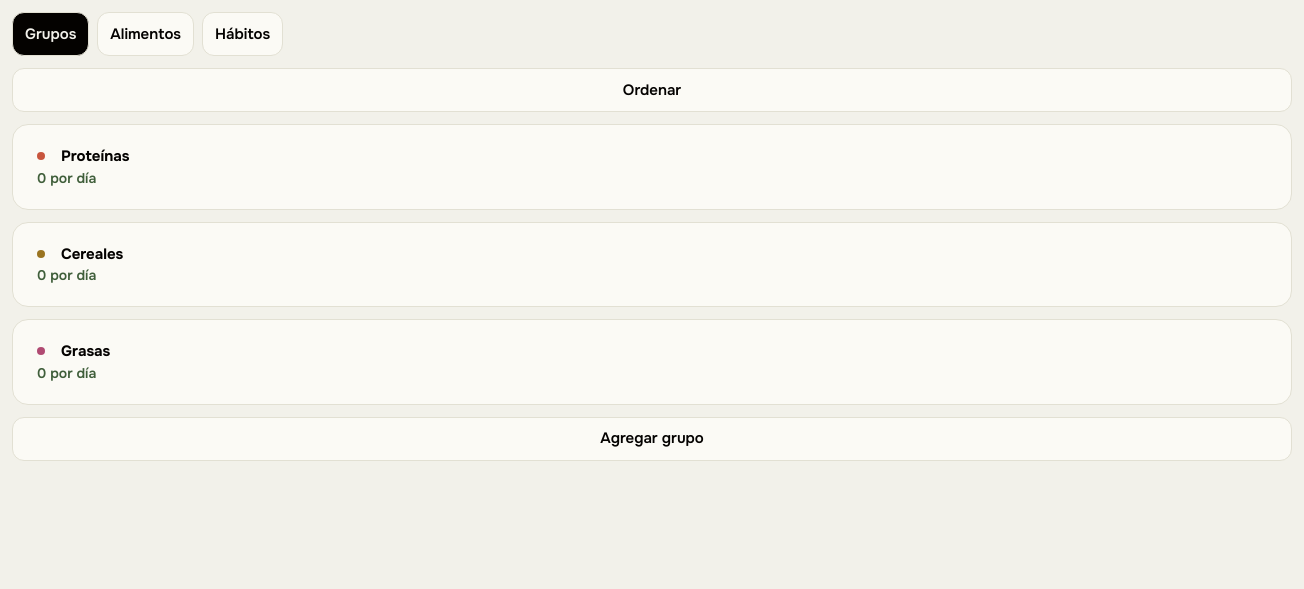
it: una sola búsqueda muestra el plan y el catálogo y exige dos caracteres
The width and height of the screenshot is (1304, 589).
Expected: the text "Proteínas" is shown, [37,146,130,166]
Click the button "Alimentos": point(146, 34) [97,12,194,56]
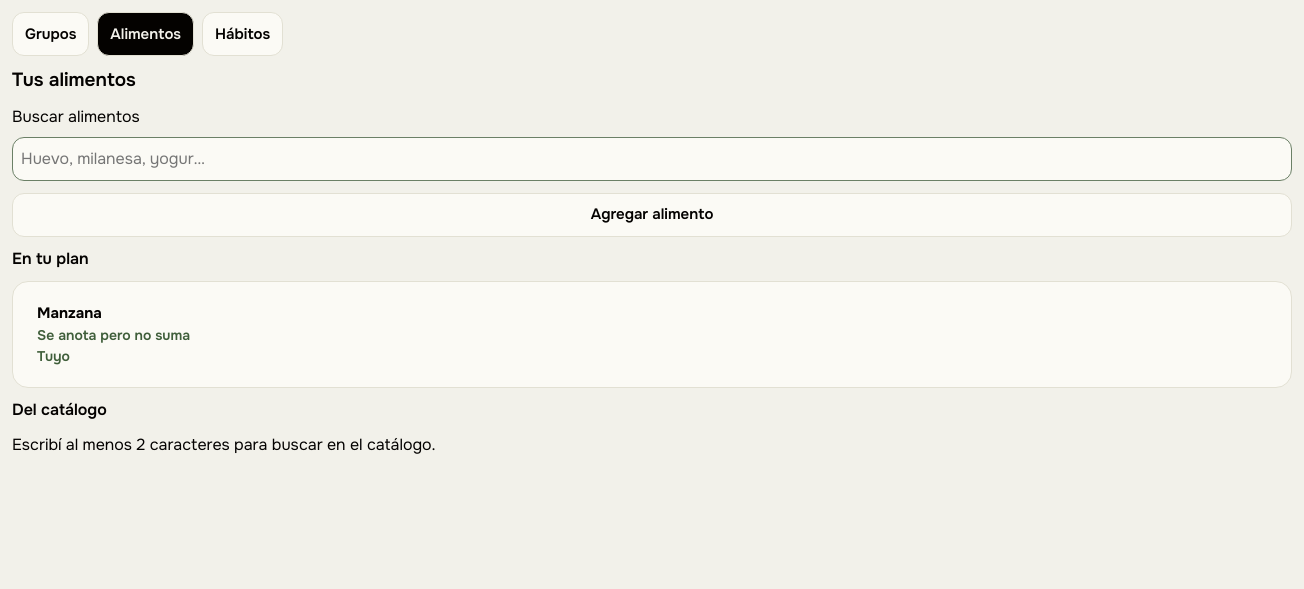
Expected: the number of search fields is 1
In the search field labelled "Buscar alimentos": point(652, 159) [12,137,1292,181], type "m"
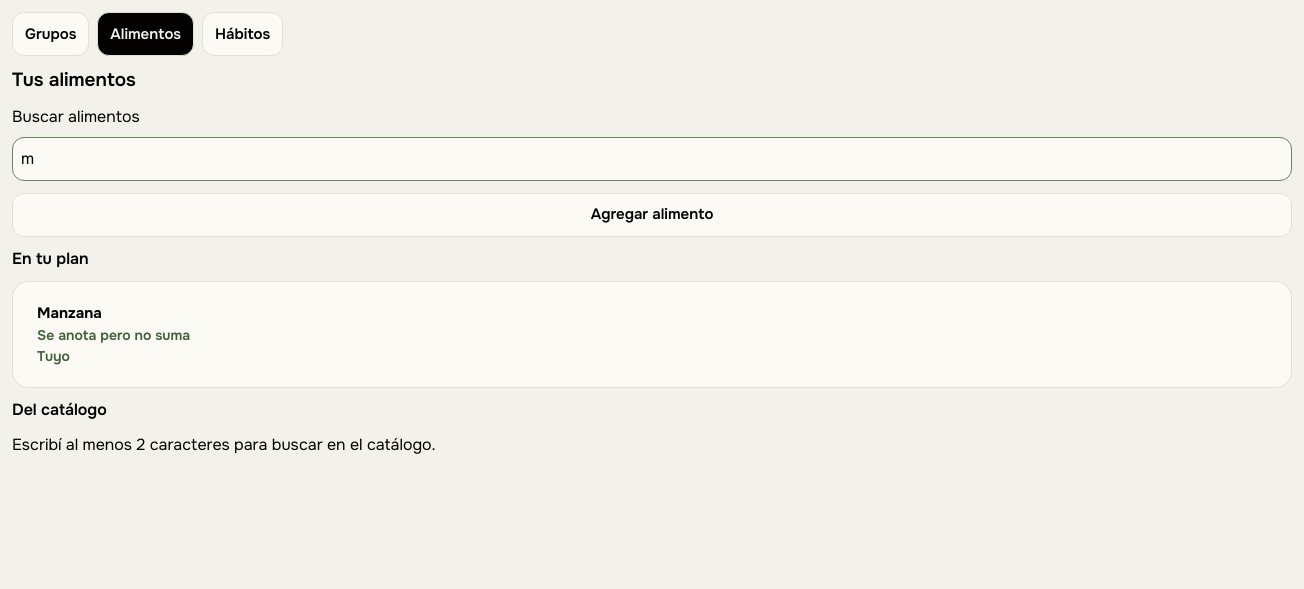
Expected: the text "Escribí al menos 2 caracteres para buscar en el catálogo." is shown, [12,434,436,455]
Replace the text in the search field labelled "Buscar alimentos" with "man": point(652, 159) [12,137,1292,181]
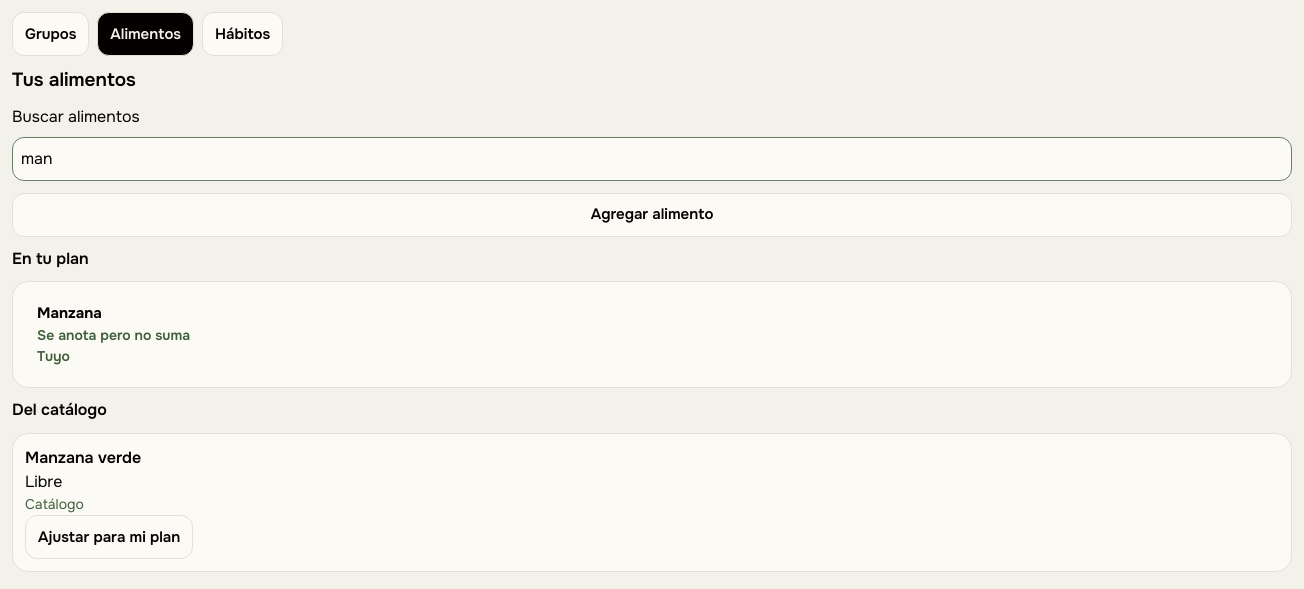
Expected: the heading "En tu plan" is shown, [12,248,89,269]
Expected: the heading "Del catálogo" is shown, [12,399,107,420]
Expected: the button with aria-label "Editar Manzana" is shown, [25,294,1279,375]
Replace the text in the search field labelled "Buscar alimentos" with "x": point(652, 159) [12,137,1292,181]
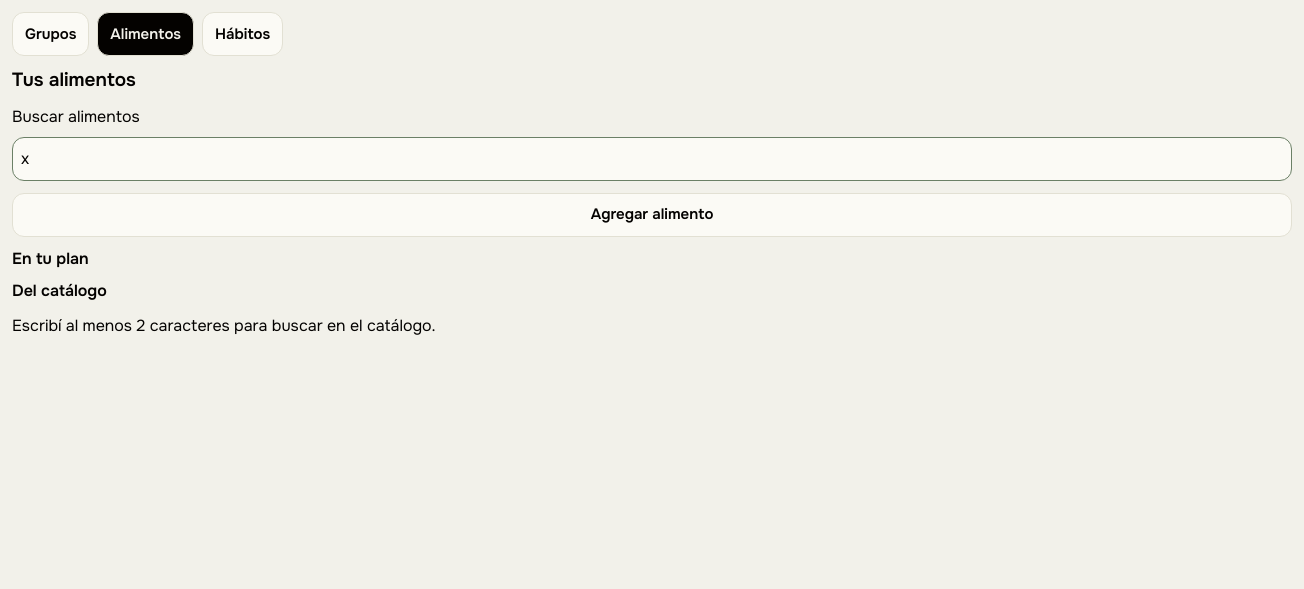
Expected: the heading "Manzana verde" is gone
